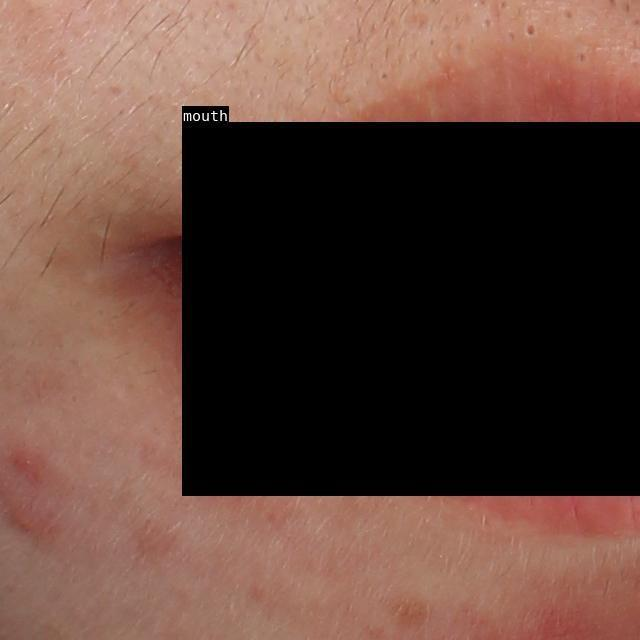atrophic_scar: (104, 81, 130, 100), (401, 14, 429, 31)
comedo: (521, 19, 538, 37)
papule: (12, 508, 35, 532), (13, 455, 39, 473)
